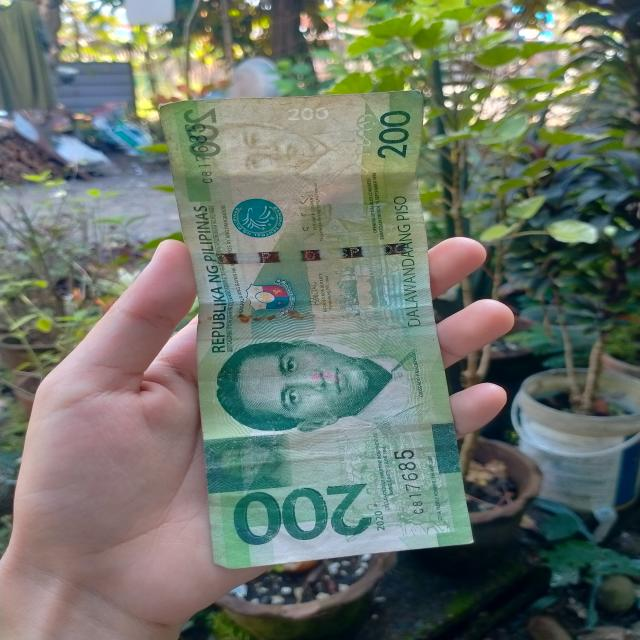concealed_value: (204, 435, 294, 491)
security_thread: (191, 237, 428, 264)
see_through_mark: (351, 102, 385, 184)
serial_number: (175, 112, 225, 201), (386, 446, 430, 521)
value: (237, 478, 372, 547)
value_watermark: (282, 104, 338, 124)
watermark: (193, 120, 367, 188)
